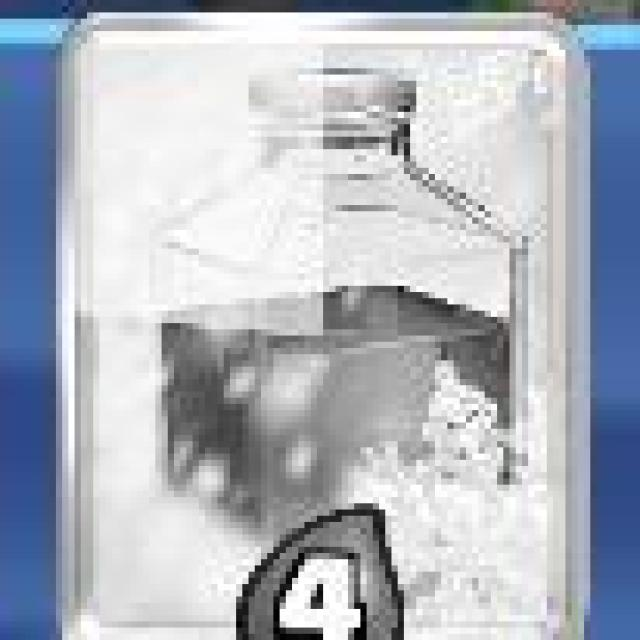Freeze: (50, 7, 597, 640)
